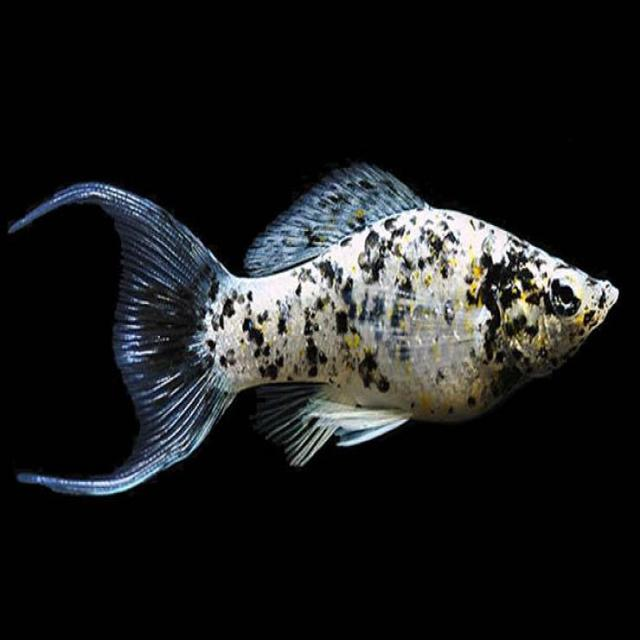PlatyFish: (0, 158, 623, 510)
